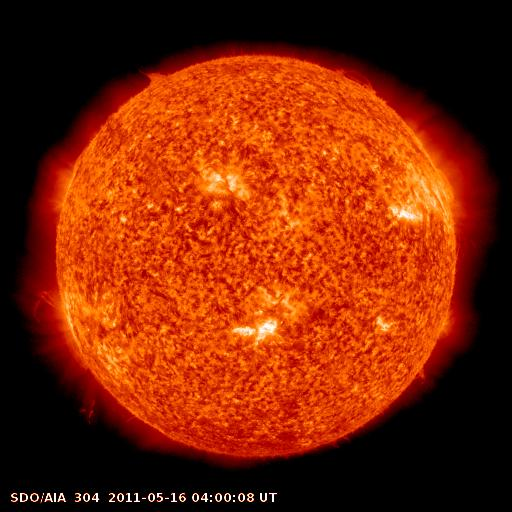prominence: (49, 327, 109, 431), (328, 51, 387, 100), (139, 60, 180, 98)
